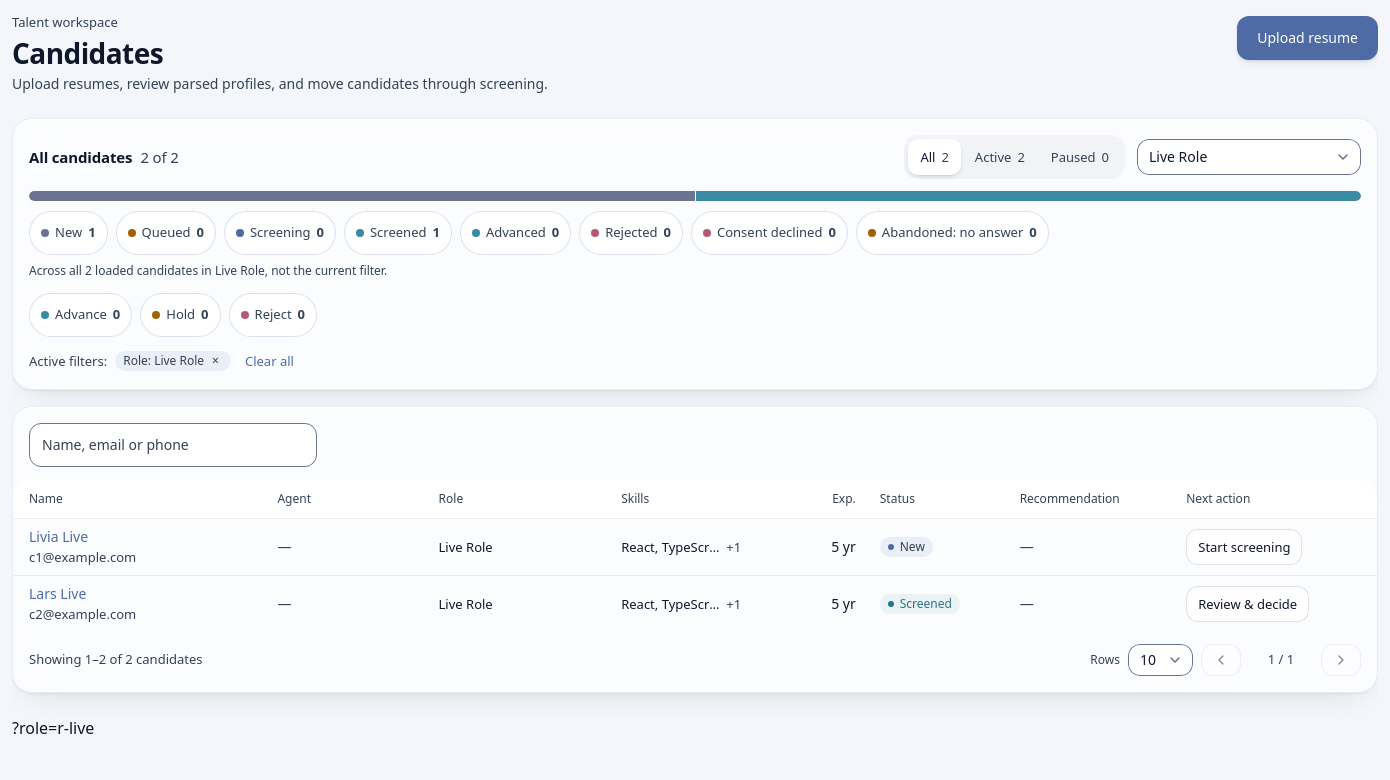
Test: Active / Paused is attributed per candidate, and intersects with ?role= › falls back to the role-level rule, still keeping the role, when candidates lack the field
This screenshot has width=1390, height=780.
Expected: the link "Livia Live" is shown, [29,527,88,546]
Click the button "Paused 0".
click(1080, 157)  # box [1039,139,1121,175]
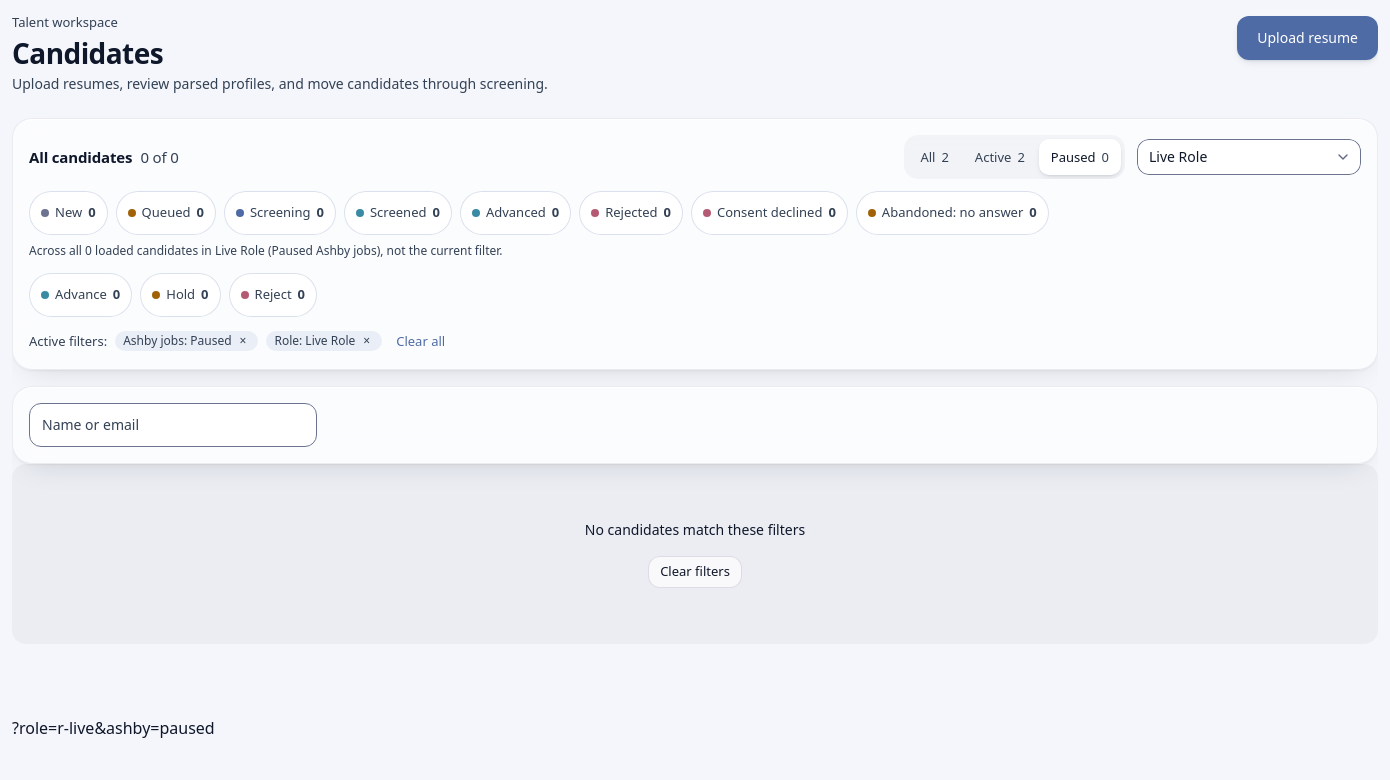
Expected: the text with test id "location" shows "role=r-live", [12,717,215,739]
Now the text "No candidates match these filters" is shown, box [585,520,805,540]
